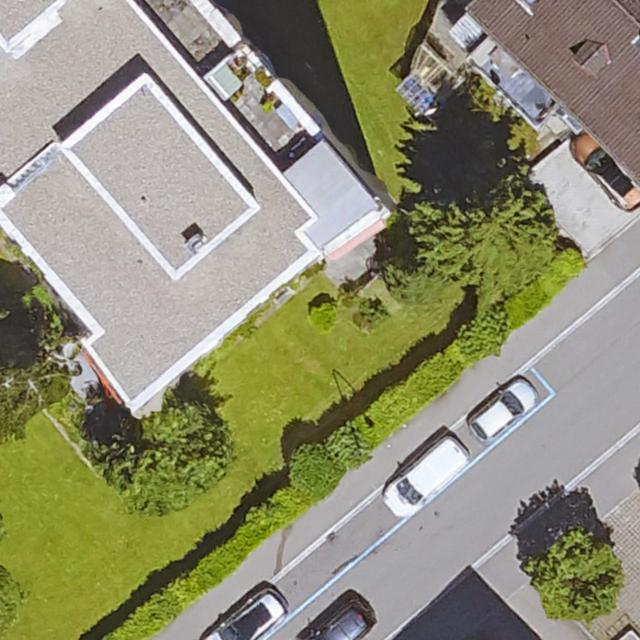tree: (85, 384, 230, 514), (410, 172, 555, 297), (0, 309, 67, 443), (530, 529, 624, 619)
